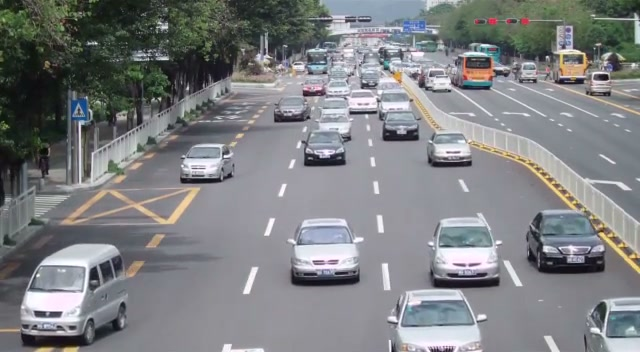bus: (450, 52, 495, 88)
car: (386, 288, 487, 352), (427, 216, 503, 288), (286, 217, 363, 285), (525, 209, 606, 273), (583, 297, 640, 352), (179, 143, 235, 183), (425, 131, 473, 167), (303, 130, 347, 166), (381, 110, 420, 141), (377, 90, 411, 121), (273, 95, 310, 122), (347, 89, 378, 114), (584, 71, 612, 96), (493, 64, 512, 77)
truck: (19, 242, 129, 346), (451, 52, 494, 89), (552, 50, 588, 84), (584, 71, 612, 96), (518, 62, 538, 84)
